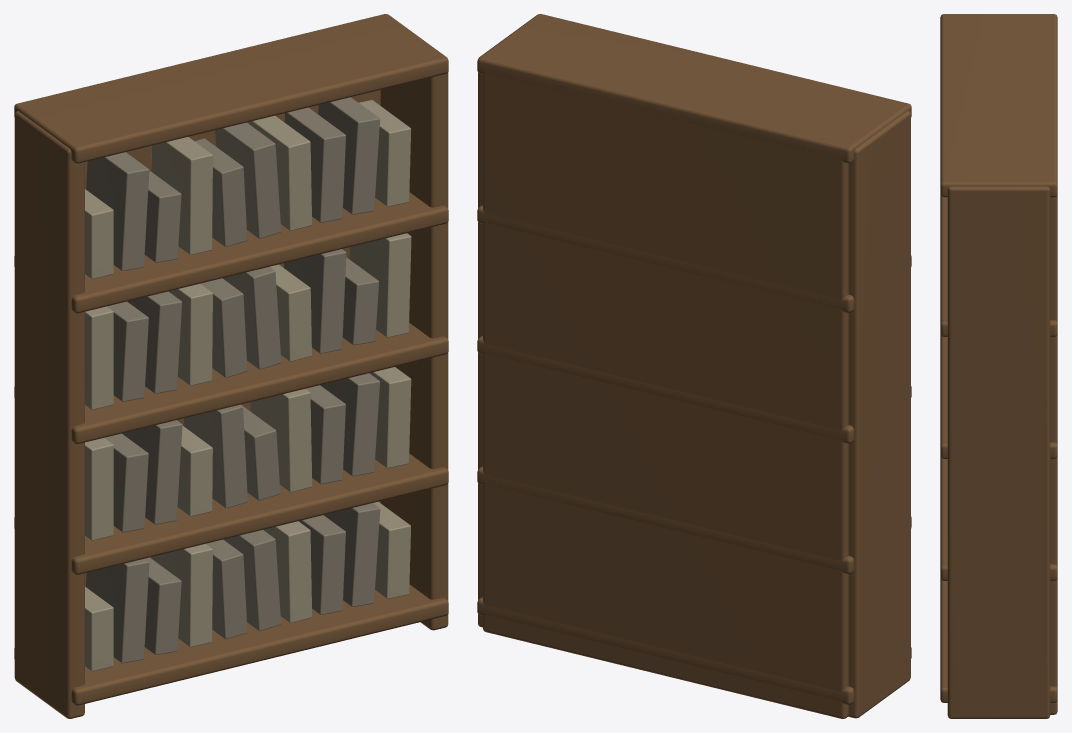
File: shelf.glb
3 renders of one model, left to right at view 1: azimuth 30°, elevation 25°; view 2: azimuth 150°, elevation 25°; view 3: azimuth 270°, elevation 25°, orthographic. The views are drawn at different scales.
Parts seen in each view (by area): view 1: shelf; view 2: shelf; view 3: shelf.
Part boxes in pixels (box(x1,y1,x2,y2)): shelf: box(14, 14, 448, 718); shelf: box(477, 14, 911, 718); shelf: box(940, 14, 1057, 718).
Size of the model in its own units: 1.68 by 2.41 by 0.48.
